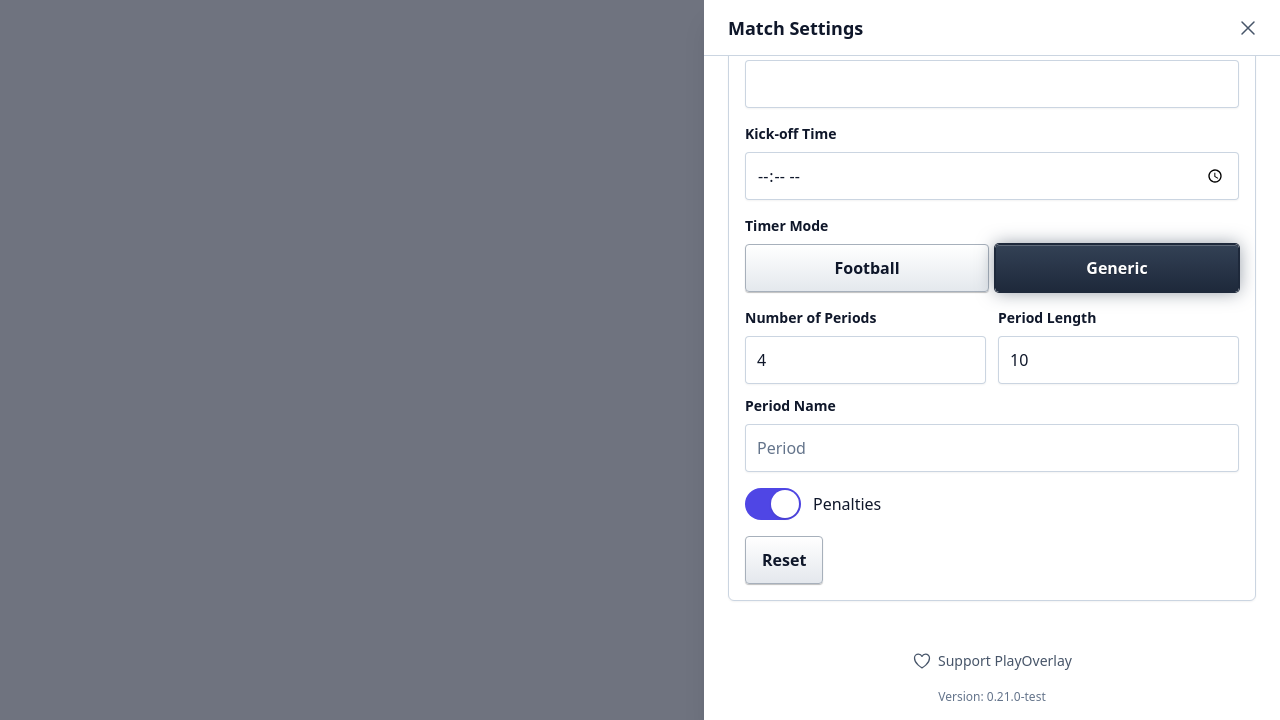
Scenario: MatchSettingsMenu numeric timer fields › drops an invalid draft when the settings change from outside (e.g. a restore)
(page scrolled)
Replace the text in the number field labelled "Number of Periods" with "0" at coordinates (866, 360), box [745, 336, 986, 384]
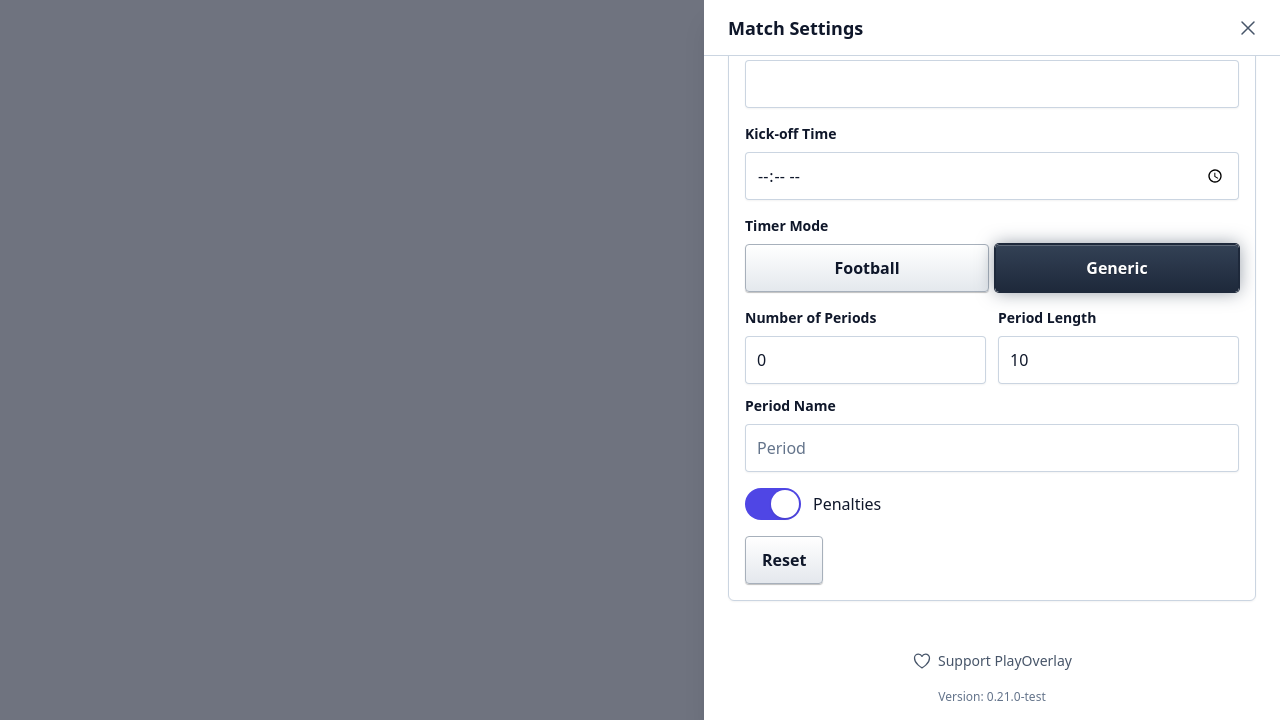
Leave the number field labelled "Number of Periods", box [745, 336, 986, 384]
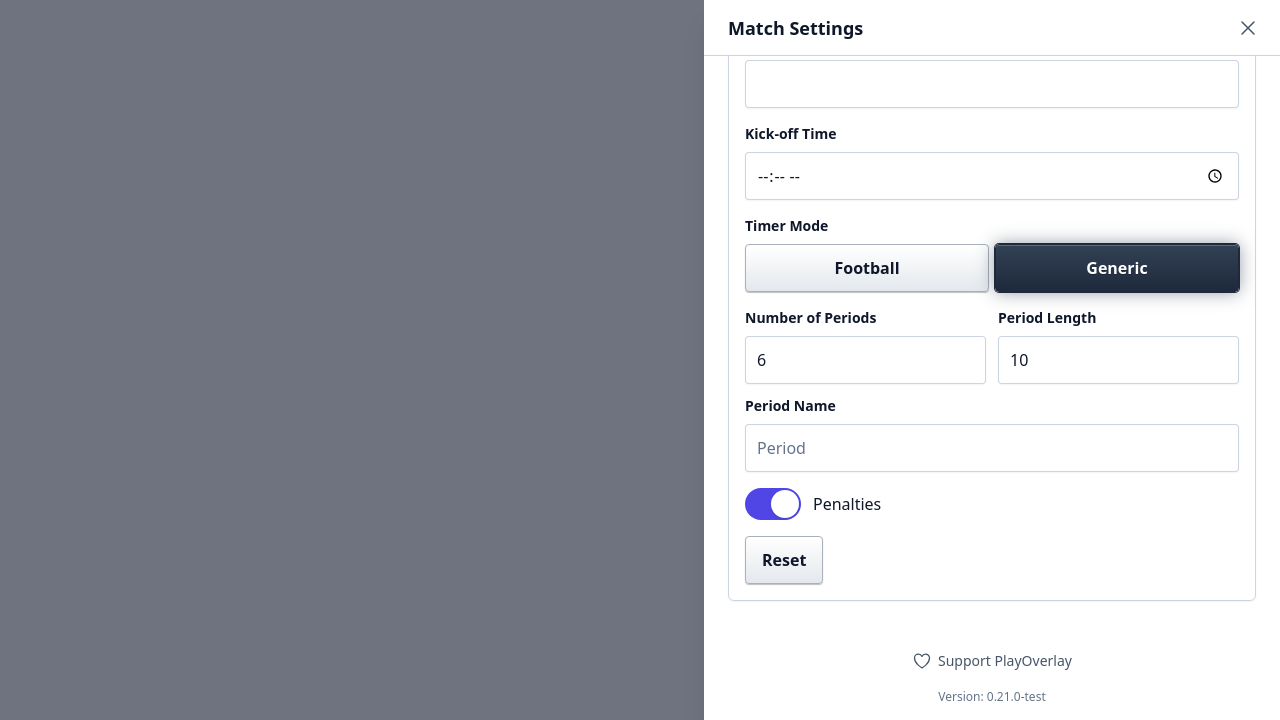
Check: the number field labelled "Number of Periods" holds "6", box [745, 336, 986, 384]
